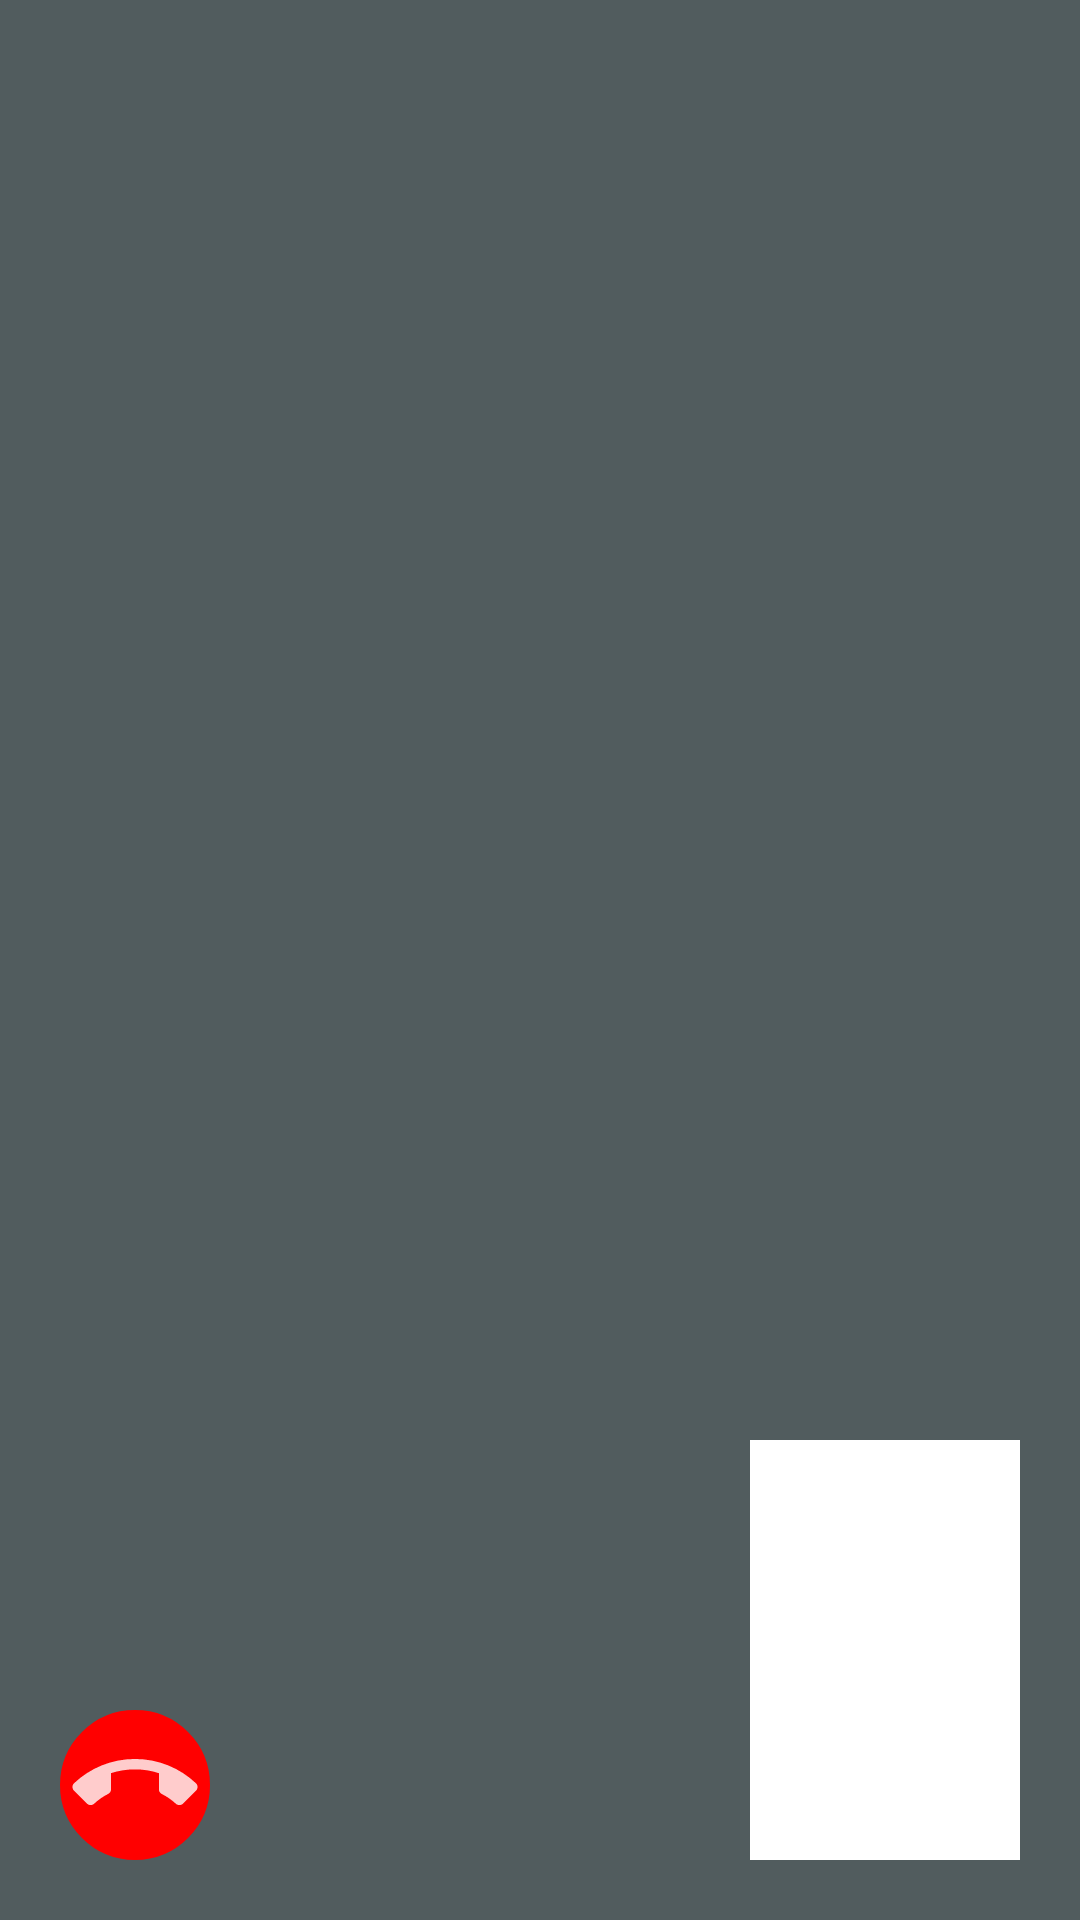

Icons on this 1080x1920 Android screen, each with the point to tap as (x=x, y=y):
end call: (x=135, y=1785)
